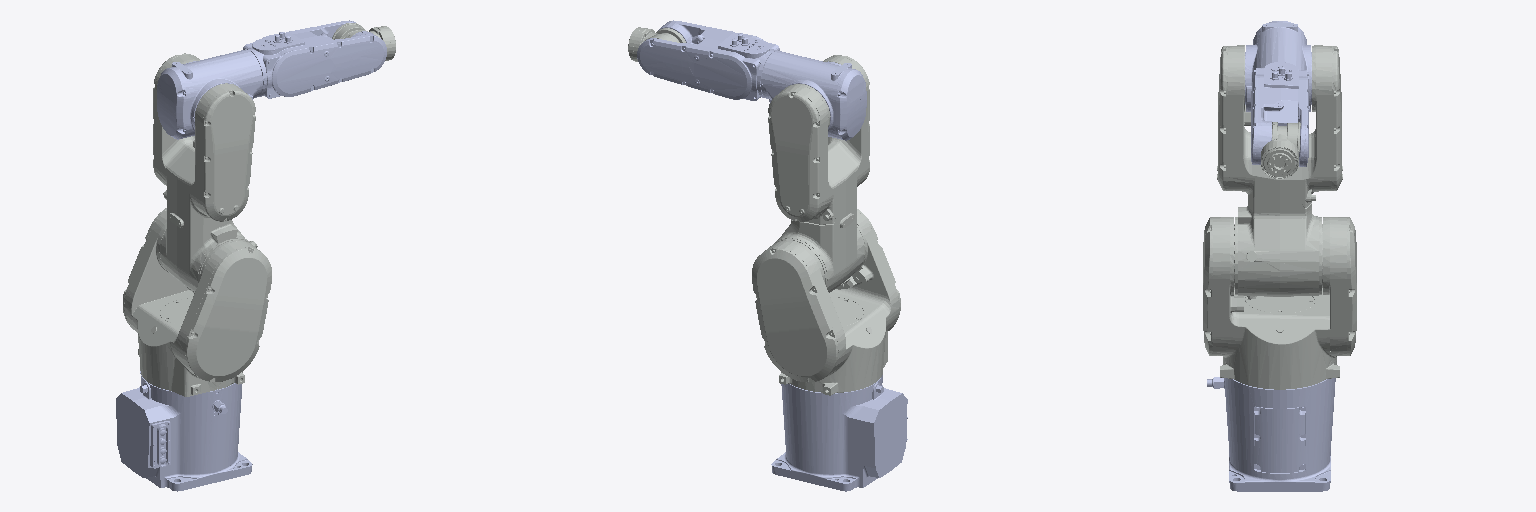
The robot description file, URDF, robot "irb1300":
<?xml version="1.0" encoding="utf-8"?>
<!-- This URDF was automatically created by SolidWorks to URDF Exporter! Originally created by Stephen Brawner (brawner@gmail.com) 
     Commit Version: 1.6.0-4-g7f85cfe  Build Version: 1.6.7995.38578
     For more information, please see http://wiki.ros.org/sw_urdf_exporter -->
<robot
  name="irb1300">
  <link
    name="base_link">
    <inertial>
      <origin
        xyz="-0.019117 0.12888 0.00062115"
        rpy="0 0 0" />
      <mass
        value="12.796" />
      <inertia
        ixx="0.10884"
        ixy="-0.0033234"
        ixz="0.00073627"
        iyy="0.1096"
        iyz="-0.00015147"
        izz="0.13224" />
    </inertial>
    <visual>
      <origin
        xyz="0 0 0"
        rpy="0 0 0" />
      <geometry>
        <mesh
          filename="package://irb1300/meshes/base_link.STL" />
      </geometry>
      <material
        name="">
        <color
          rgba="0.79216 0.81961 0.93333 1" />
      </material>
    </visual>
    <collision>
      <origin
        xyz="0 0 0"
        rpy="0 0 0" />
      <geometry>
        <mesh
          filename="package://irb1300/meshes/base_link.STL" />
      </geometry>
    </collision>
  </link>
  <link
    name="link_1">
    <inertial>
      <origin
        xyz="0.0118728740760351 0.142663426078217 0.00090288028022988"
        rpy="0 0 0" />
      <mass
        value="15.1399842560572" />
      <inertia
        ixx="0.188246609977057"
        ixy="-0.0192875793935417"
        ixz="-0.00681833187715605"
        iyy="0.135210865623369"
        iyz="-0.044211481051224"
        izz="0.165814850069581" />
    </inertial>
    <visual>
      <origin
        xyz="0 0 0"
        rpy="0 0 0" />
      <geometry>
        <mesh
          filename="package://irb1300/meshes/link_1.STL" />
      </geometry>
      <material
        name="">
        <color
          rgba="0.780392156862745 0.8 0.788235294117647 1" />
      </material>
    </visual>
    <collision>
      <origin
        xyz="0 0 0"
        rpy="0 0 0" />
      <geometry>
        <mesh
          filename="package://irb1300/meshes/link_1.STL" />
      </geometry>
    </collision>
  </link>
  <joint
    name="joint_1"
    type="revolute">
    <origin
      xyz="0 0 0.252"
      rpy="1.5708 0 0" />
    <parent
      link="base_link" />
    <child
      link="link_1" />
    <axis
      xyz="0 1 0" />
    <limit
      lower="-3.1416"
      upper="3.1416"
      effort="100"
      velocity="3.93" />
  </joint>
  <link
    name="link_2">
    <inertial>
      <origin
        xyz="-0.0087766655554306 0.167419852515239 0.000996216058851831"
        rpy="0 0 0" />
      <mass
        value="13.1682300734697" />
      <inertia
        ixx="0.400916333816421"
        ixy="0.002725358432957"
        ixz="-3.69387219248728E-05"
        iyy="0.0970055683779209"
        iyz="0.00433076302895217"
        izz="0.347417980666809" />
    </inertial>
    <visual>
      <origin
        xyz="0 0 0"
        rpy="0 0 0" />
      <geometry>
        <mesh
          filename="package://irb1300/meshes/link_2.STL" />
      </geometry>
      <material
        name="">
        <color
          rgba="0.780392156862745 0.8 0.788235294117647 1" />
      </material>
    </visual>
    <collision>
      <origin
        xyz="0 0 0"
        rpy="0 0 0" />
      <geometry>
        <mesh
          filename="package://irb1300/meshes/link_2.STL" />
      </geometry>
    </collision>
  </link>
  <joint
    name="joint_2"
    type="revolute">
    <origin
      xyz="0.05 0.292 0"
      rpy="0 0 0.032647" />
    <parent
      link="link_1" />
    <child
      link="link_2" />
    <axis
      xyz="0 0 1" />
    <limit
      lower="-1.6581"
      upper="2.7053"
      effort="100"
      velocity="3.98" />
  </joint>
  <link
    name="link_3">
    <inertial>
      <origin
        xyz="0.005827083869087 0.0113942811209284 0.00136329507762327"
        rpy="0 0 0" />
      <mass
        value="4.42121737547182" />
      <inertia
        ixx="0.0148335413556959"
        ixy="-0.001548372203582"
        ixz="-3.23612038813134E-06"
        iyy="0.0225856381693592"
        iyz="0.000109786801000583"
        izz="0.0259248185606818" />
    </inertial>
    <visual>
      <origin
        xyz="0 0 0"
        rpy="0 0 0" />
      <geometry>
        <mesh
          filename="package://irb1300/meshes/link_3.STL" />
      </geometry>
      <material
        name="">
        <color
          rgba="0.792156862745098 0.819607843137255 0.933333333333333 1" />
      </material>
    </visual>
    <collision>
      <origin
        xyz="0 0 0"
        rpy="0 0 0" />
      <geometry>
        <mesh
          filename="package://irb1300/meshes/link_3.STL" />
      </geometry>
    </collision>
  </link>
  <joint
    name="joint_3"
    type="revolute">
    <origin
      xyz="0 0.425 0"
      rpy="0 0 -0.032647" />
    <parent
      link="link_2" />
    <child
      link="link_3" />
    <axis
      xyz="0 0 1" />
    <limit
      lower="-3.6652"
      upper="1.1345"
      effort="100"
      velocity="5.76" />
  </joint>
  <link
    name="link_4">
    <inertial>
      <origin
        xyz="0.138759956858277 0.00130603064201984 0.00136558195856996"
        rpy="0 0 0" />
      <mass
        value="3.69533592011249" />
      <inertia
        ixx="0.00621145984922588"
        ixy="0.000216943796215828"
        ixz="-0.00226689708369177"
        iyy="0.0294618059100021"
        iyz="6.97582728722878E-05"
        izz="0.0307697306437824" />
    </inertial>
    <visual>
      <origin
        xyz="0 0 0"
        rpy="0 0 0" />
      <geometry>
        <mesh
          filename="package://irb1300/meshes/link_4.STL" />
      </geometry>
      <material
        name="">
        <color
          rgba="0.792156862745098 0.819607843137255 0.933333333333333 1" />
      </material>
    </visual>
    <collision>
      <origin
        xyz="0 0 0"
        rpy="0 0 0" />
      <geometry>
        <mesh
          filename="package://irb1300/meshes/link_4.STL" />
      </geometry>
    </collision>
  </link>
  <joint
    name="joint_4"
    type="revolute">
    <origin
      xyz="0.1295 0.04 0"
      rpy="-0.050742 0 0" />
    <parent
      link="link_3" />
    <child
      link="link_4" />
    <axis
      xyz="1 0 0" />
    <limit
      lower="-4.0143"
      upper="4.0143"
      effort="50"
      velocity="8.73" />
  </joint>
  <link
    name="link_5">
    <inertial>
      <origin
        xyz="0.0223391294198715 5.70891352018599E-05 -0.0085903966156852"
        rpy="0 0 0" />
      <mass
        value="0.604636878207001" />
      <inertia
        ixx="0.000529616526070355"
        ixy="2.30455525858979E-06"
        ixz="-0.000109858180804214"
        iyy="0.00104334258237376"
        iyz="-5.89491327327846E-08"
        izz="0.00109245978389957" />
    </inertial>
    <visual>
      <origin
        xyz="0 0 0"
        rpy="0 0 0" />
      <geometry>
        <mesh
          filename="package://irb1300/meshes/link_5.STL" />
      </geometry>
      <material
        name="">
        <color
          rgba="0.780392156862745 0.8 0.788235294117647 1" />
      </material>
    </visual>
    <collision>
      <origin
        xyz="0 0 0"
        rpy="0 0 0" />
      <geometry>
        <mesh
          filename="package://irb1300/meshes/link_5.STL" />
      </geometry>
    </collision>
  </link>
  <joint
    name="joint_5"
    type="revolute">
    <origin
      xyz="0.2955 0 0"
      rpy="0 0 -0.088273" />
    <parent
      link="link_4" />
    <child
      link="link_5" />
    <axis
      xyz="0 0 1" />
    <limit
      lower="-2.2689"
      upper="2.2689"
      effort="50"
      velocity="8.73" />
  </joint>
  <link
    name="link_6">
    <inertial>
      <origin
        xyz="0.00711695710012866 -8.03063734249321E-05 -5.41477527426226E-05"
        rpy="0 0 0" />
      <mass
        value="0.0169042920298229" />
      <inertia
        ixx="1.00889950421622E-05"
        ixy="3.38855771761946E-10"
        ixz="8.09487422555995E-10"
        iyy="5.21709944958153E-06"
        iyz="-1.76112132240466E-08"
        izz="5.06681431056389E-06" />
    </inertial>
    <visual>
      <origin
        xyz="0 0 0"
        rpy="0 0 0" />
      <geometry>
        <mesh
          filename="package://irb1300/meshes/link_6.STL" />
      </geometry>
      <material
        name="">
        <color
          rgba="0.780392156862745 0.8 0.788235294117647 1" />
      </material>
    </visual>
    <collision>
      <origin
        xyz="0 0 0"
        rpy="0 0 0" />
      <geometry>
        <mesh
          filename="package://irb1300/meshes/link_6.STL" />
      </geometry>
    </collision>
  </link>
  <joint
    name="joint_6"
    type="revolute">
    <origin
      xyz="0.080346 0 0"
      rpy="-0.094174 0 0" />
    <parent
      link="link_5" />
    <child
      link="link_6" />
    <axis
      xyz="1 0 0" />
    <limit
      lower="-6.9813"
      upper="6.9813"
      effort="50"
      velocity="8.73" />
  </joint>
</robot>

--- What the picture shows (computed from the rendered views, not written in the file) ---
The picture shows the robot from 3 angles, left to right: view 1: azimuth 30°, elevation 25°; view 2: azimuth 150°, elevation 25°; view 3: azimuth 270°, elevation 25°; orthographic projection.
Model irb1300 with 7 links and 6 joints (6 revolute), rooted at base_link, posed all joints at 0.
Visible links, largest first — view 1: link_1, link_2, base_link, link_4, link_3, link_5; view 2: link_1, link_2, base_link, link_4, link_3, link_5; view 3: link_2, link_1, base_link, link_4, link_3, link_5, link_6.
Link boxes in pixels (x1,y1,x2,y2): link_1: (123,208,271,396); link_2: (153,53,257,293); base_link: (116,371,252,491); link_4: (243,20,386,98); link_3: (157,49,262,139); link_5: (332,23,395,60); link_1: (752,209,900,395); link_2: (768,55,869,292); base_link: (771,375,907,491); link_4: (637,20,779,100); link_3: (761,51,866,140); link_5: (628,27,685,61); link_2: (1217,45,1342,298); link_1: (1203,217,1356,389); base_link: (1207,377,1335,491); link_4: (1251,62,1309,166); link_3: (1245,21,1311,111); link_5: (1261,122,1300,178); link_6: (1264,149,1295,176).
Size in the robot's own frame: 0.7201 by 0.34 by 1.11 metres.
Meshes: 7 distinct files referenced, 7 mesh visuals loaded (7 binary STL).
